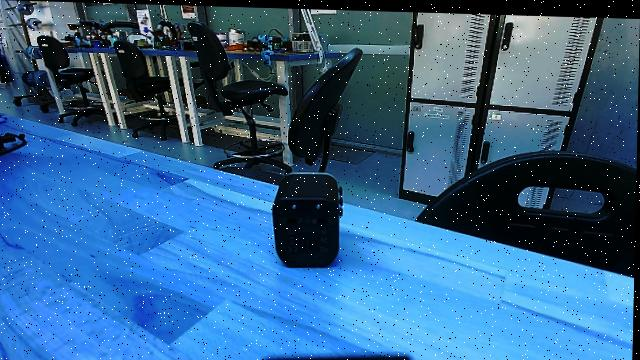adapter: (267, 162, 346, 276)
